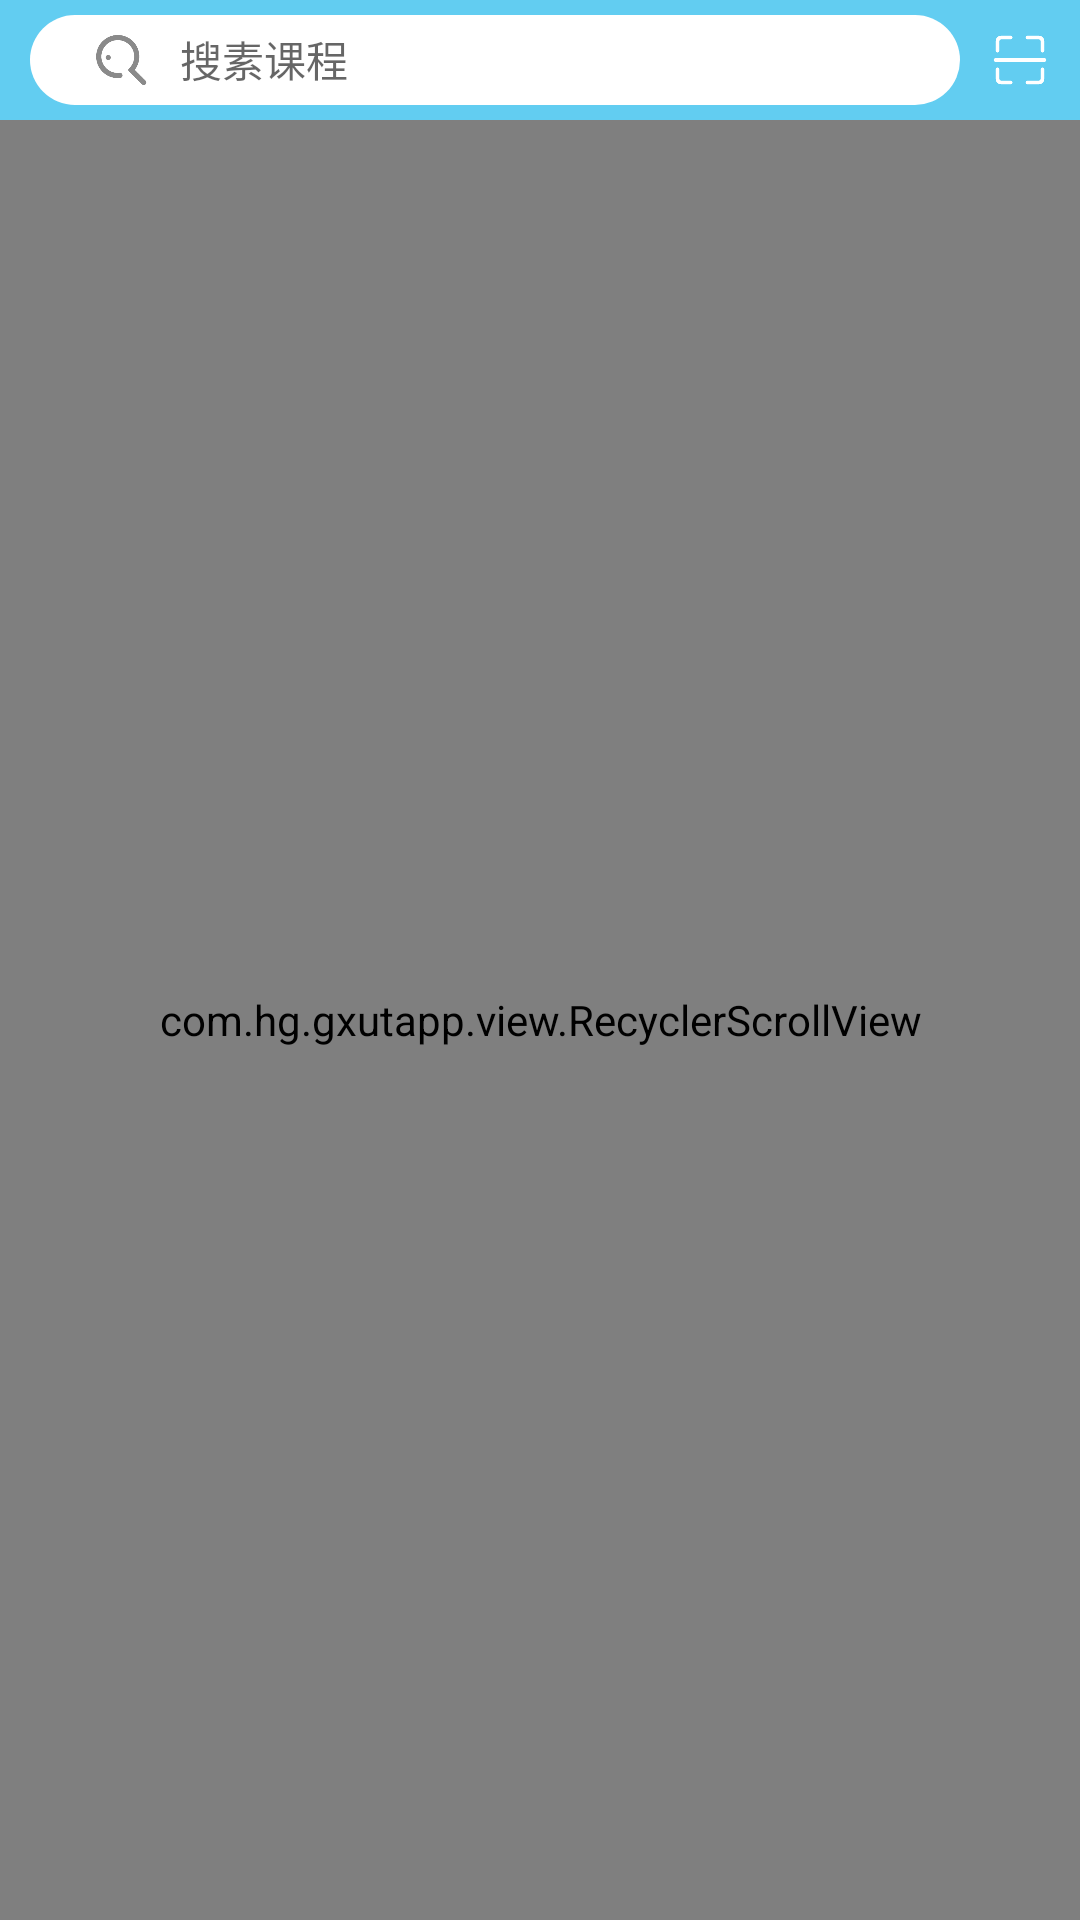

Named icons in this screenshot (1080px x 1920px) and their bounding boxes, (x1, y1, x2, y2):
saoma: (994, 35, 1046, 85)
search: (96, 35, 146, 85)
